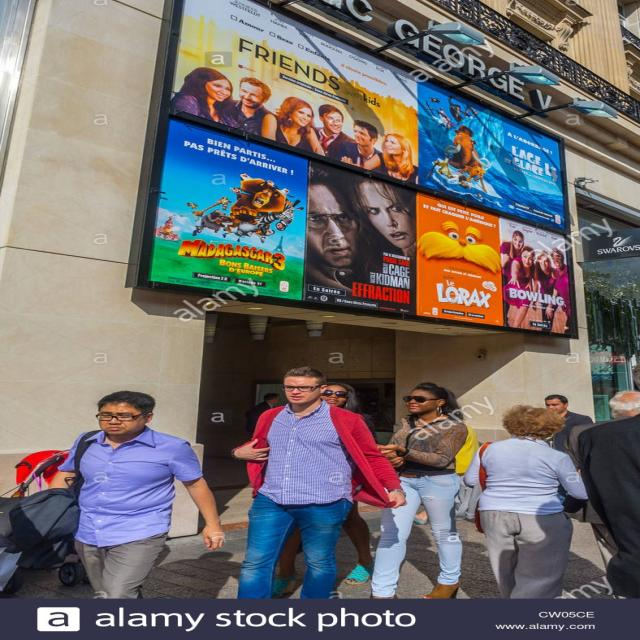body: (0, 479, 573, 601), (158, 64, 520, 210), (155, 210, 578, 331), (228, 366, 410, 599), (42, 389, 228, 599), (267, 382, 381, 600), (463, 404, 590, 599), (366, 380, 472, 600), (572, 362, 640, 603), (563, 389, 639, 599), (542, 394, 596, 520), (244, 392, 280, 441)
